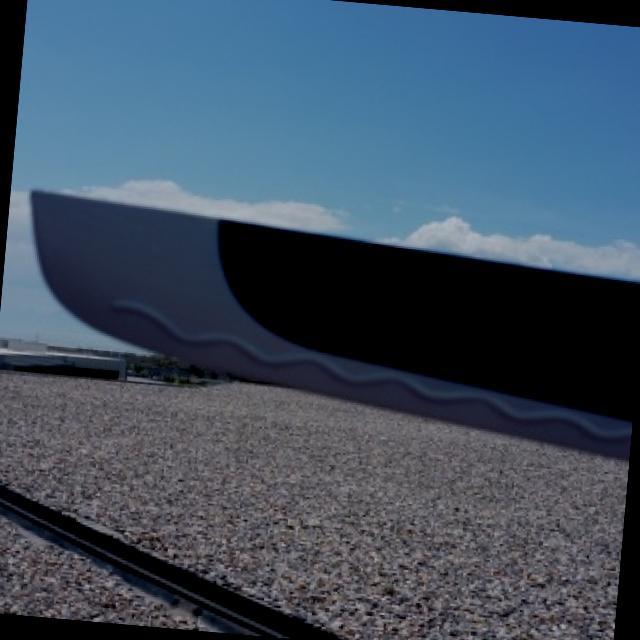healthy: (31, 190, 640, 456)
